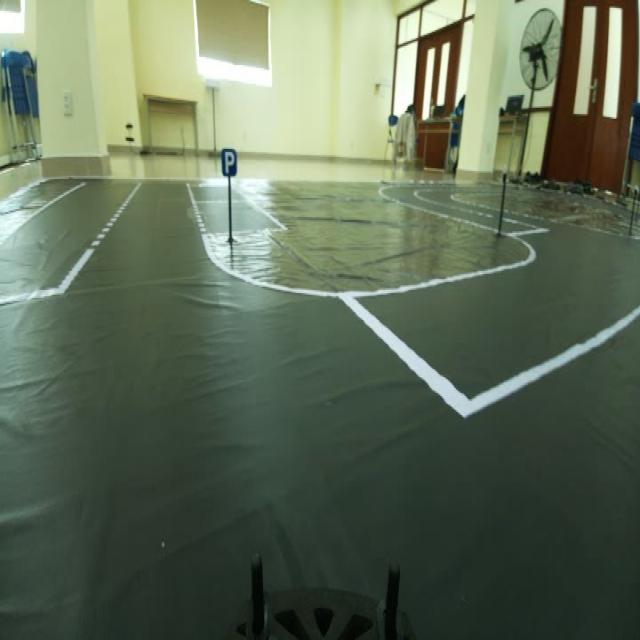parking: (217, 146, 243, 182)
